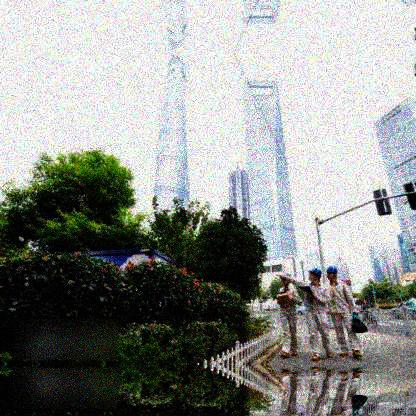helmet: (308, 267, 322, 285), (325, 266, 338, 284), (279, 274, 291, 286)
